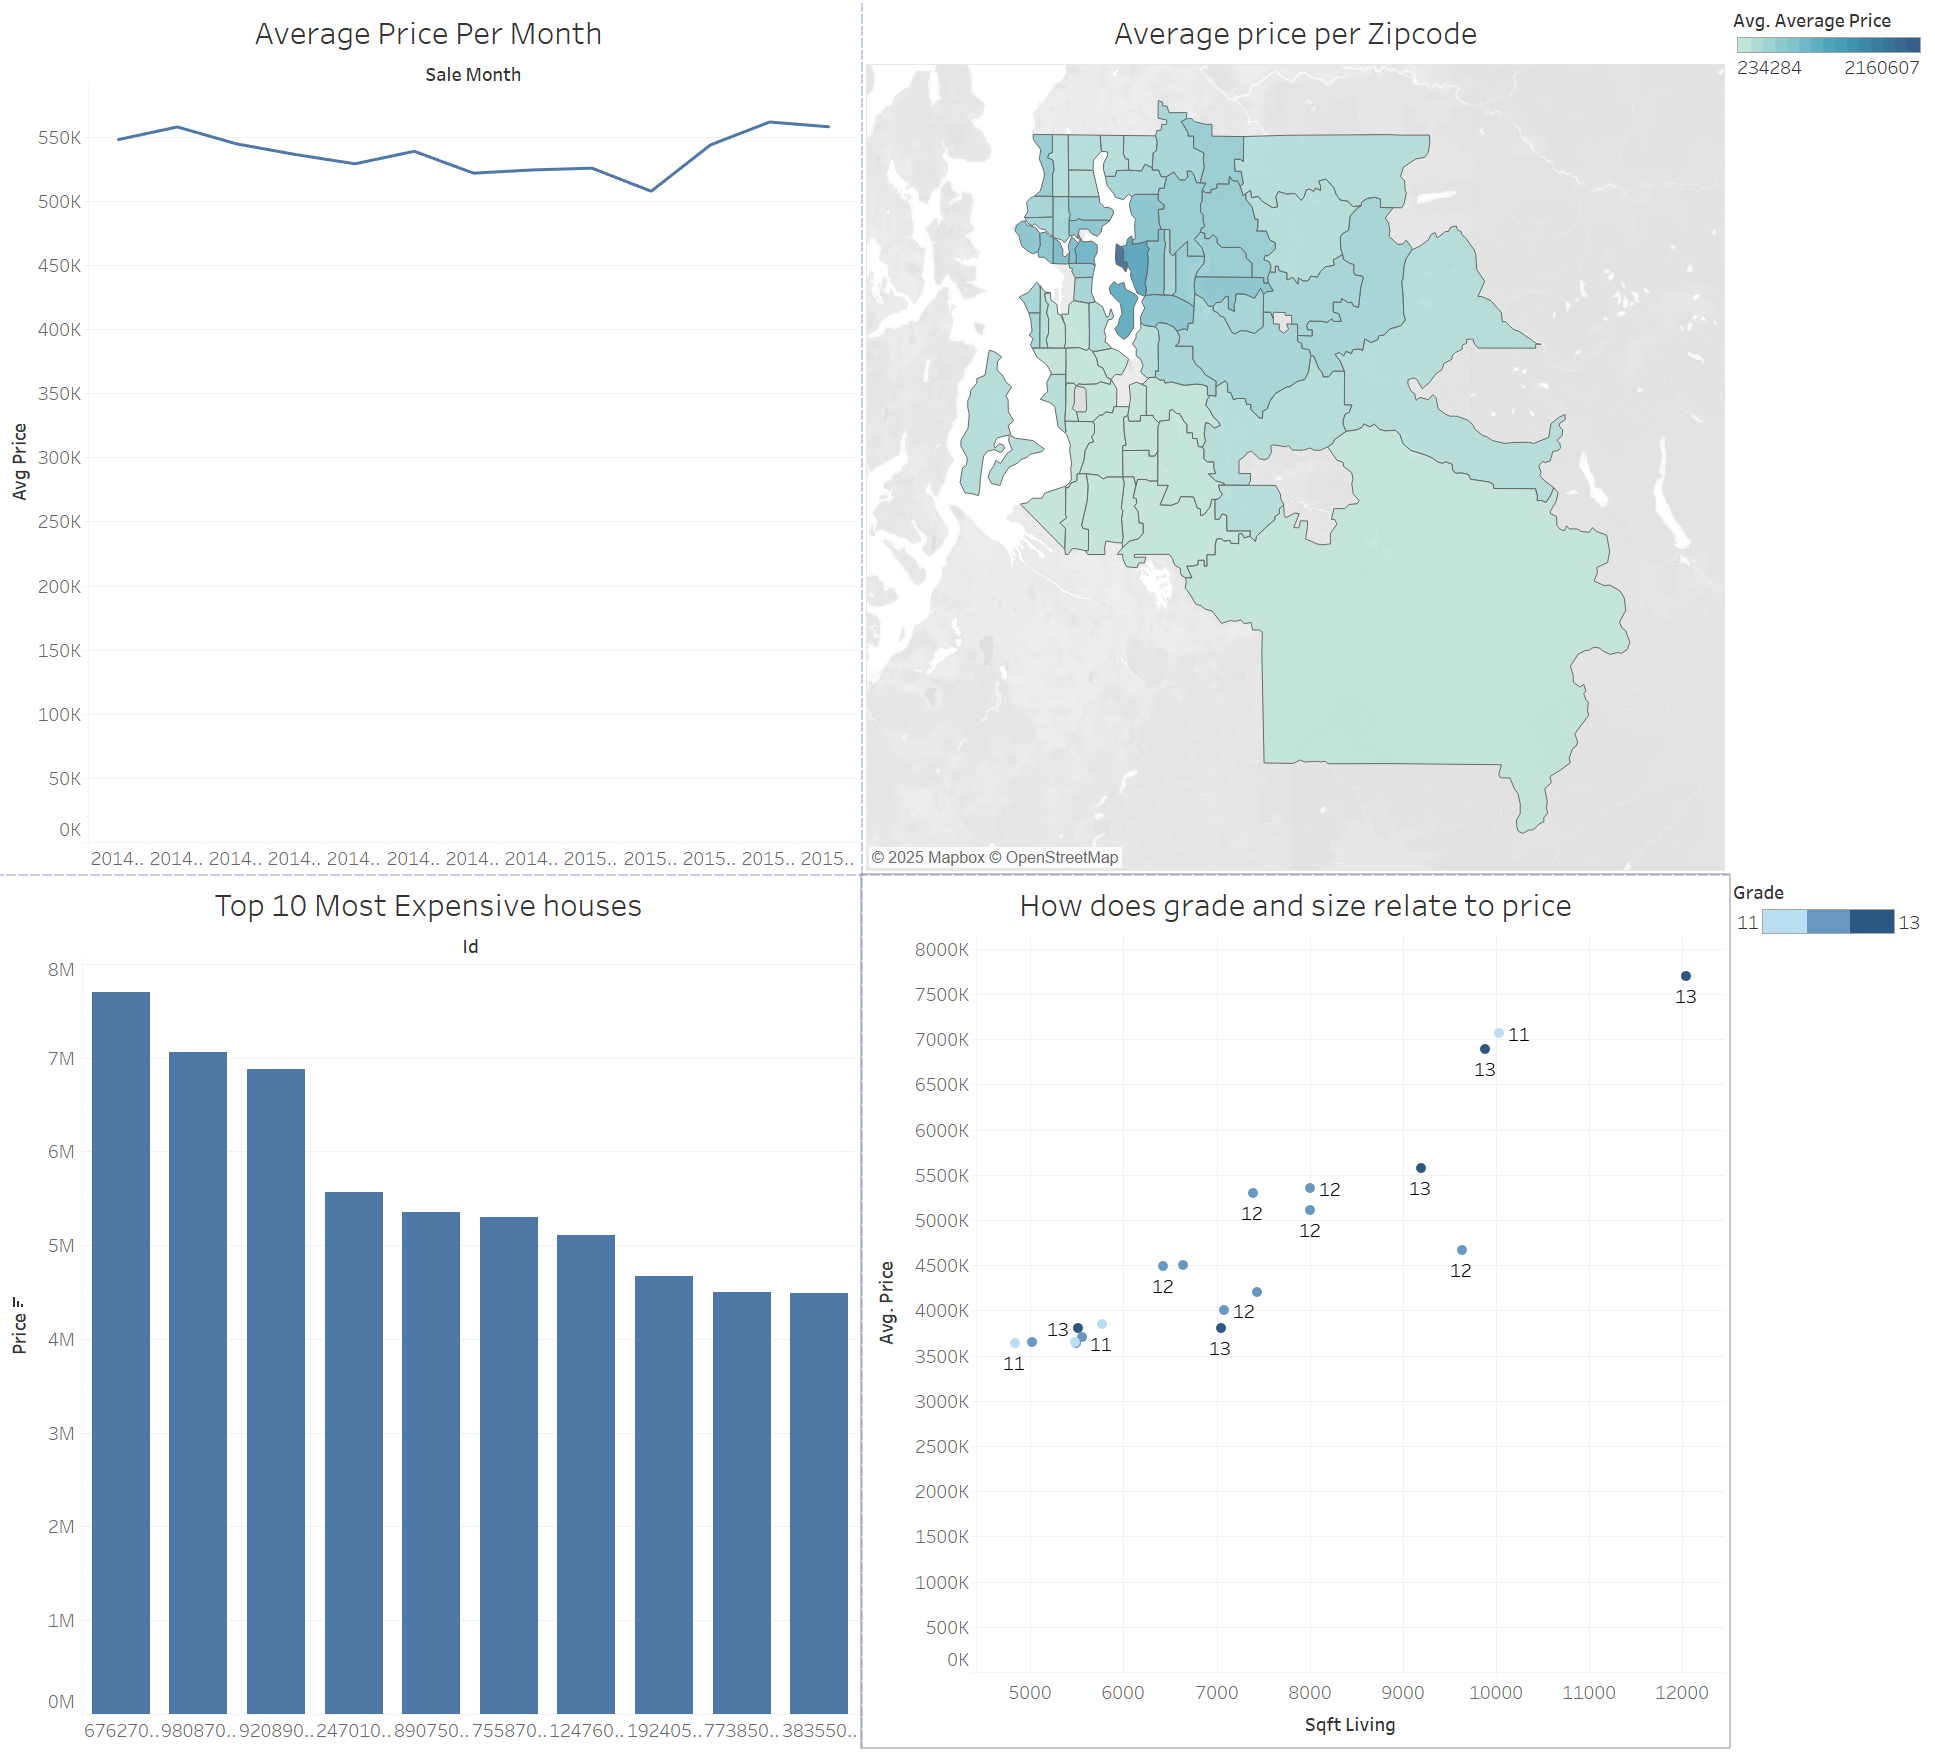

What the dashboard file says about the page in this screenshot:
{"tool":"tableau","page":{"name":"Dashboard 1","canvas":[1000,1000],"units":"permille","ordinal":0},"visuals":[{"type":"worksheet","title":"Sheet 1","mark":"Line","rows":["avg_price"],"cols":["sale_month"],"box":[4.1,4.5,444.6,495.4]},{"type":"worksheet","title":"Sheet 2","mark":"Automatic","box":[448.7,4.5,444.6,495.4]},{"type":"legend","title":"Sheet 2","param":"[federated.0aic3ty09o3dit1a6w0me0fgwdc6].[avg:avg_price (avg!price!by!zipcode):q","box":[893.3,4.5,102.6,123.3]},{"type":"legend","title":"Sheet 4","param":"[federated.1skxy740cncufo1a9orq01fkt6jk].[sum:grade:qk]","box":[893.3,127.9,102.6,46]},{"type":"worksheet","title":"Sheet 3","mark":"Automatic","rows":["price"],"cols":["id"],"box":[4.1,500,444.6,495.4]},{"type":"worksheet","title":"Sheet 4","mark":"Circle","rows":["price"],"cols":["sqft_living"],"box":[448.7,500,444.6,495.4]}]}

Visuals, with their boxes on the dashboard's canvas, which has no fixed pixel size, in thousandths of its width and height (x1, y1, x2, y2). These are canvas units, not pixel positions in the 1935x1755 screenshot, which may show the page scaled, cropped or inside an application window:
"Sheet 1" worksheet (Line marks): locate(4, 4, 449, 500)
"Sheet 2" worksheet: locate(449, 4, 893, 500)
"Sheet 2" legend: locate(893, 4, 996, 128)
"Sheet 4" legend: locate(893, 128, 996, 174)
"Sheet 3" worksheet: locate(4, 500, 449, 995)
"Sheet 4" worksheet (Circle marks): locate(449, 500, 893, 995)
